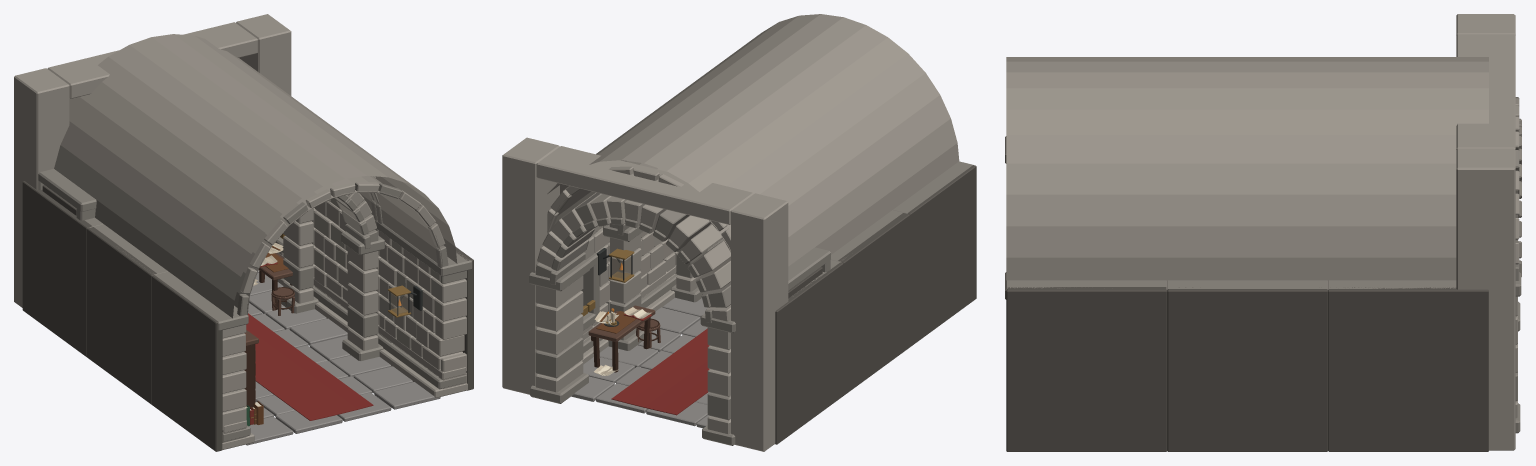
File: provenance-gallery.glb
The picture shows the model from 3 angles, left to right: view 1: azimuth 30°, elevation 25°; view 2: azimuth 150°, elevation 25°; view 3: azimuth 270°, elevation 25°; orthographic projection. The views are drawn at different scales.
Visible parts, largest first — view 1: ProvenanceVault_00, ProvenanceVault_01, ProvenanceVault_02, ProvenanceLeftWall_00, ProvenanceProjectThreshold, ProvenanceLeftWall_02, ProvenanceRightWall_00, ProvenanceLeftWall_01, ProvenanceFloor_00, ProvenanceRunner, ProvenanceBayArch_00, ProvenanceRightWall_01 (+10 smaller); view 2: ProvenanceProjectThreshold, ProvenanceVault_00, ProvenanceVault_01, ProvenanceVault_02, ProvenanceLeftWall_02, ProvenanceLeftWall_00, ProvenanceLeftWall_01, ProvenanceRunner, ProvenanceFloor_02, ProvenanceBayArch_01, ProvenanceFloor_01, ProvenanceRightWall_02 (+5 smaller); view 3: ProvenanceVault_00, ProvenanceVault_01, ProvenanceVault_02, ProvenanceRightWall_00, ProvenanceRightWall_01, ProvenanceRightWall_02, ProvenanceProjectThreshold.
Part boxes in pixels (box(x1,y1,x2,y2)): ProvenanceVault_00: box(168, 128, 457, 318); ProvenanceVault_01: box(104, 81, 386, 270); ProvenanceVault_02: box(54, 34, 292, 223); ProvenanceLeftWall_00: box(151, 271, 248, 451); ProvenanceProjectThreshold: box(14, 14, 291, 307); ProvenanceLeftWall_02: box(22, 169, 103, 356); ProvenanceRightWall_00: box(377, 221, 473, 390); ProvenanceLeftWall_01: box(87, 224, 167, 404); ProvenanceFloor_00: box(246, 355, 440, 445); ProvenanceRunner: box(246, 313, 373, 420); ProvenanceBayArch_00: box(335, 192, 384, 360); ProvenanceRightWall_01: box(314, 198, 381, 332); ProvenanceProjectThreshold: box(502, 137, 788, 451); ProvenanceVault_00: box(696, 14, 959, 209); ProvenanceVault_01: box(630, 62, 892, 254); ProvenanceVault_02: box(547, 111, 825, 266); ProvenanceLeftWall_02: box(775, 247, 843, 444); ProvenanceLeftWall_00: box(893, 161, 976, 346); ProvenanceLeftWall_01: box(831, 210, 909, 395); ProvenanceRunner: box(611, 328, 709, 415); ProvenanceFloor_02: box(571, 345, 709, 428); ProvenanceBayArch_01: box(603, 223, 644, 350); ProvenanceFloor_01: box(638, 297, 707, 353); ProvenanceRightWall_02: box(581, 226, 609, 340); ProvenanceVault_00: box(1006, 57, 1167, 280); ProvenanceVault_01: box(1167, 57, 1328, 280); ProvenanceVault_02: box(1328, 57, 1488, 280); ProvenanceRightWall_00: box(1005, 272, 1167, 451); ProvenanceRightWall_01: box(1167, 280, 1328, 451); ProvenanceRightWall_02: box(1328, 280, 1488, 451); ProvenanceProjectThreshold: box(1456, 14, 1521, 450).
Size of the model in its own units: 5.78 by 5.22 by 8.03.
